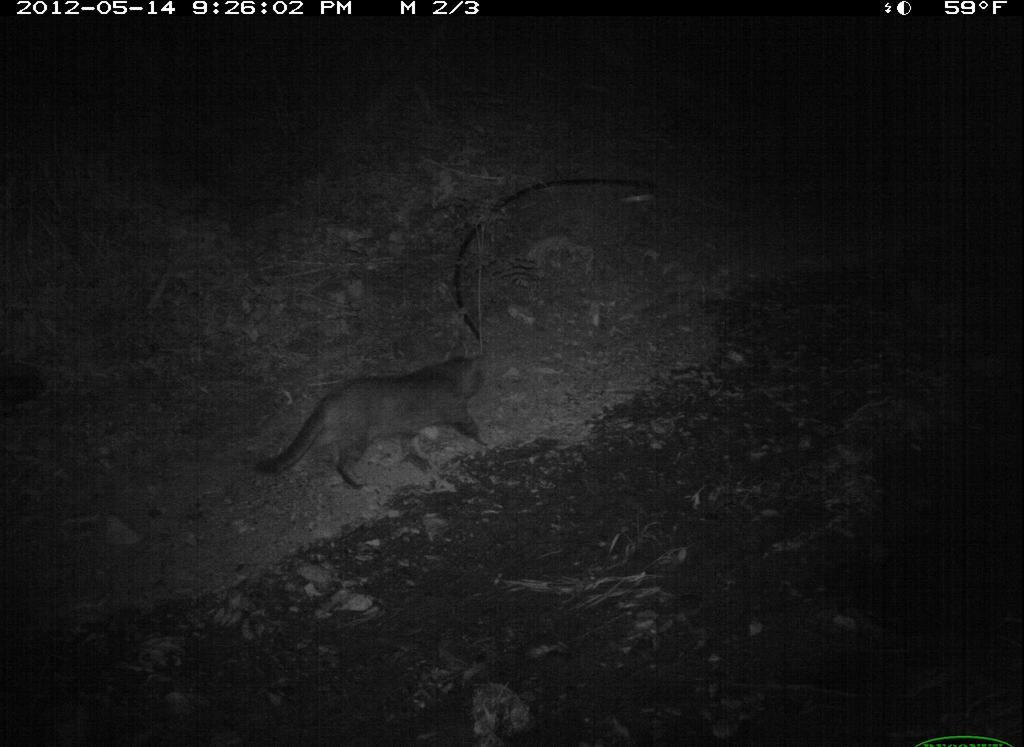cat: (249, 345, 496, 502)
